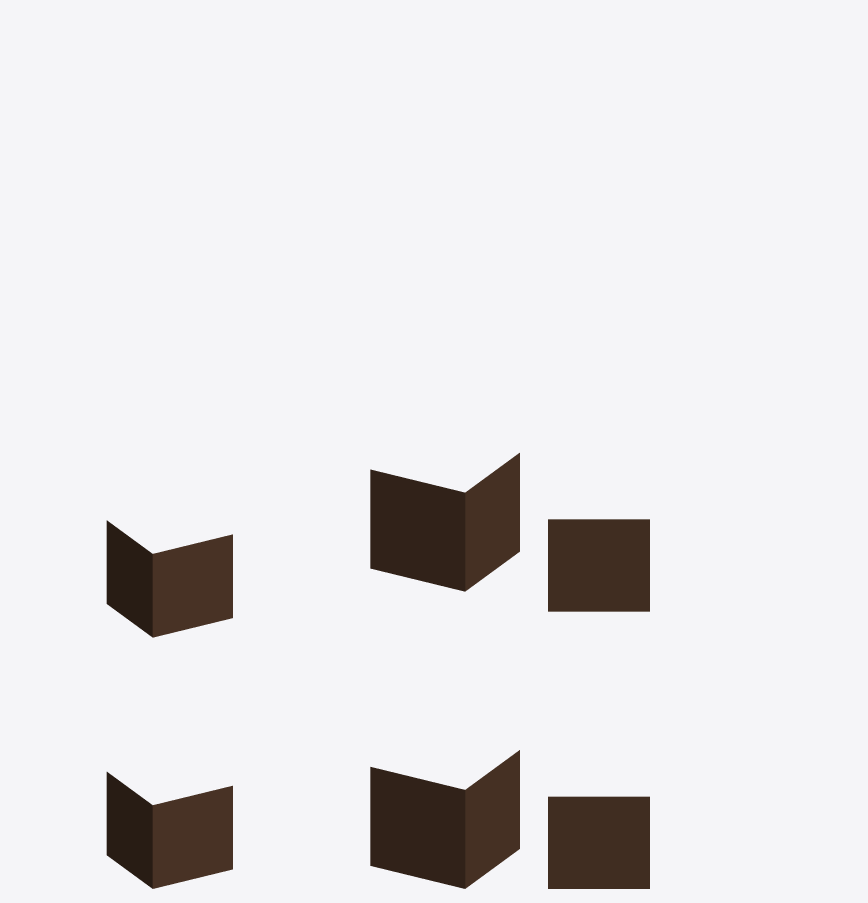
File: tree-cherry-1p3-white-5a3a26.gltf
3 renders of one model, left to right at view 1: azimuth 30°, elevation 25°; view 2: azimuth 150°, elevation 25°; view 3: azimuth 270°, elevation 25°, orthographic. The views are drawn at different scales.
Visible parts, largest first — view 1: tree-cherry-1p3-white-5a3a26; view 2: tree-cherry-1p3-white-5a3a26; view 3: tree-cherry-1p3-white-5a3a26.
Boxes of the visible parts, left/top/right/bottom form: tree-cherry-1p3-white-5a3a26: left=106, top=520, right=232, bottom=888; tree-cherry-1p3-white-5a3a26: left=370, top=453, right=519, bottom=888; tree-cherry-1p3-white-5a3a26: left=548, top=519, right=649, bottom=888.
Size of the model in its own units: 1 by 9 by 3.
